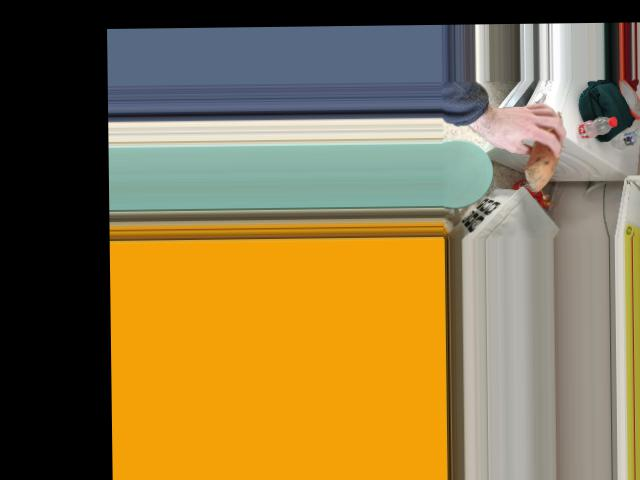sweet_potato: (526, 107, 564, 189)
